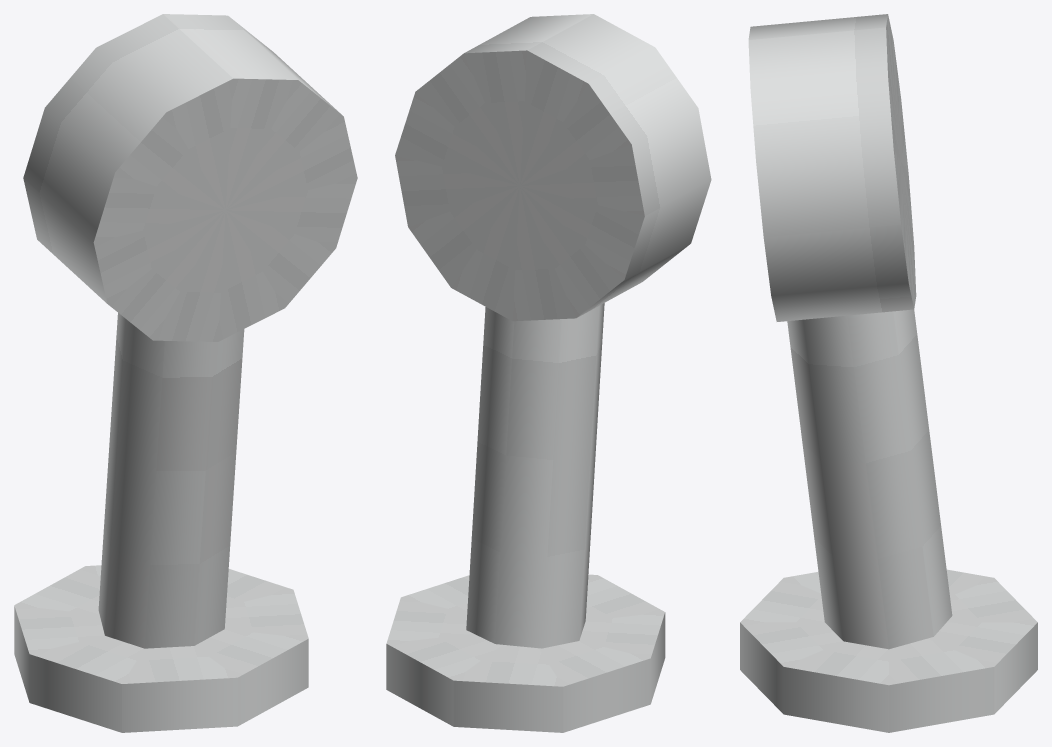
File: trusssignalarm_stub_30.obj
3 views of the same model, side by side, from view 1: azimuth 30°, elevation 25°; view 2: azimuth 150°, elevation 25°; view 3: azimuth 270°, elevation 25° (orthographic). The views are drawn at different scales.
Visible parts, largest first — view 1: trusssignalarm_stub_30; view 2: trusssignalarm_stub_30; view 3: trusssignalarm_stub_30.
Part boxes in pixels (<box>): trusssignalarm_stub_30: <box>14,14,357,732</box>; trusssignalarm_stub_30: <box>386,14,711,732</box>; trusssignalarm_stub_30: <box>740,14,1037,732</box>.
Size of the model in its own units: 0.35 by 0.8333 by 0.35.
